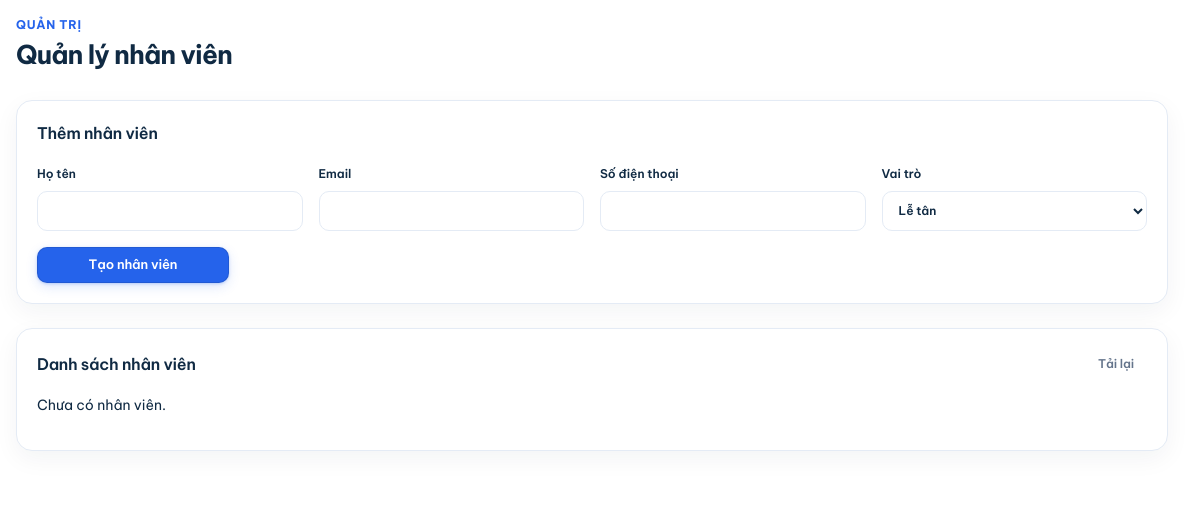
Test: StaffPage › shows an API 409 conflict without clearing the staff form
Expected: the text "Chưa có nhân viên." is shown, [37,396,166,414]
Type "Lan" into the field labelled "Họ tên".
click(170, 211); type("Lan")  # box [37,191,302,231]
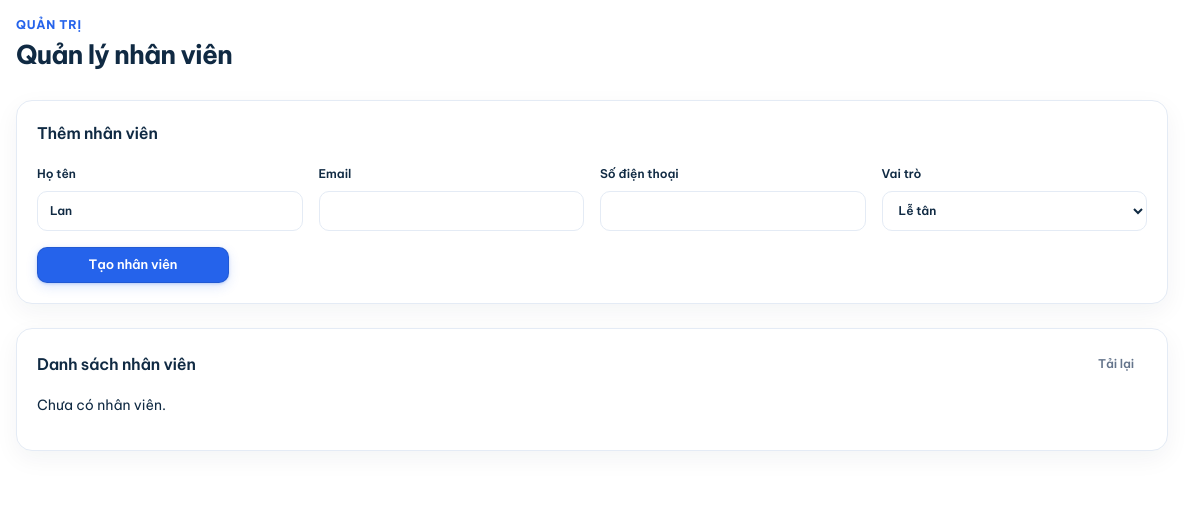
Type "lan@example.test" into the field labelled "Email".
click(451, 211); type("lan@example.test")  # box [318,191,584,231]
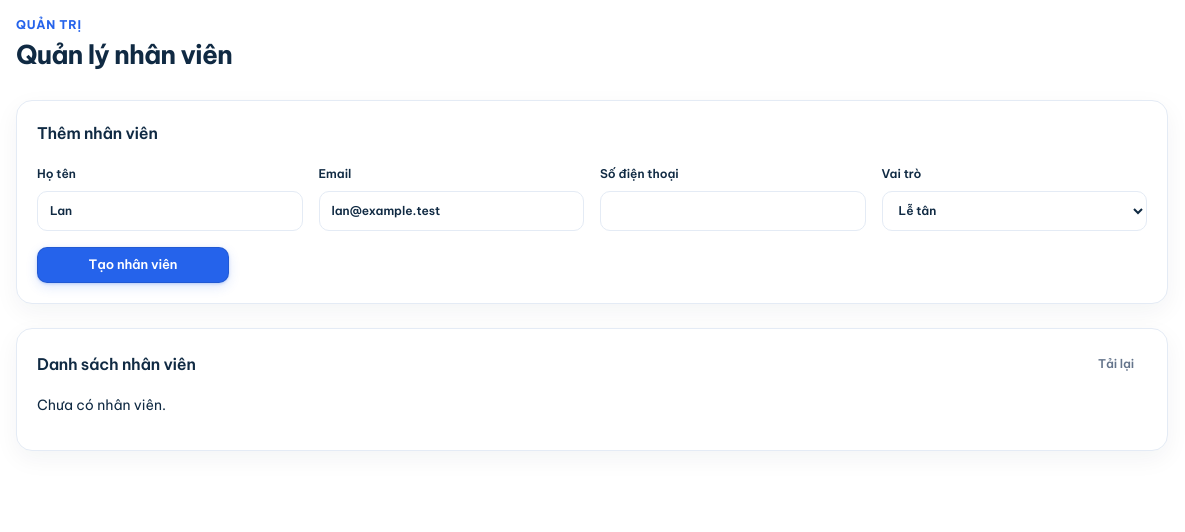
Type "0901234567" into the field labelled "Số điện thoại".
click(733, 211); type("0901234567")  # box [600,191,866,231]
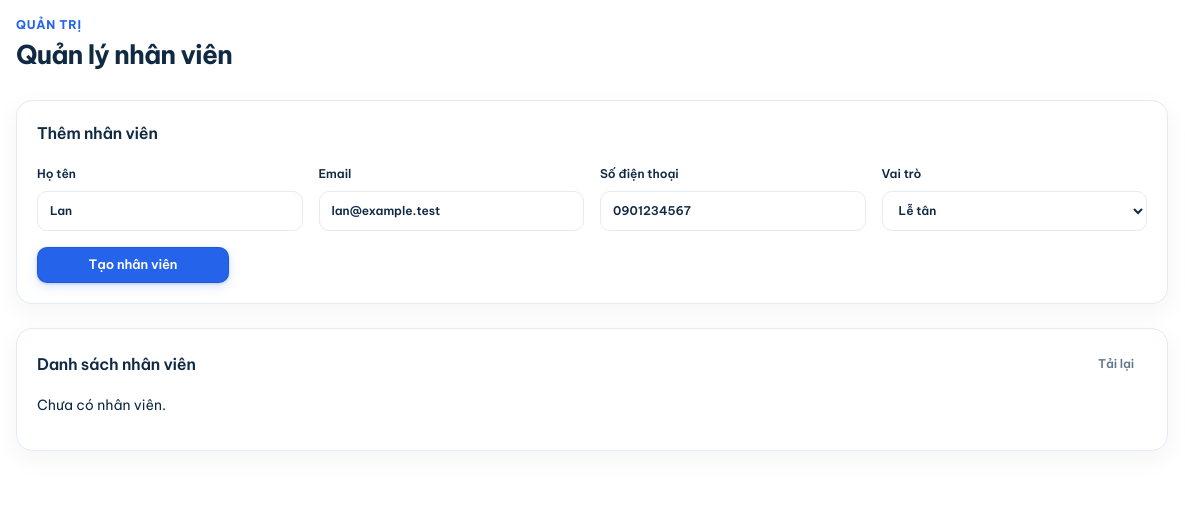
Click the button "Tạo nhân viên".
click(133, 265)  # box [37,247,229,283]
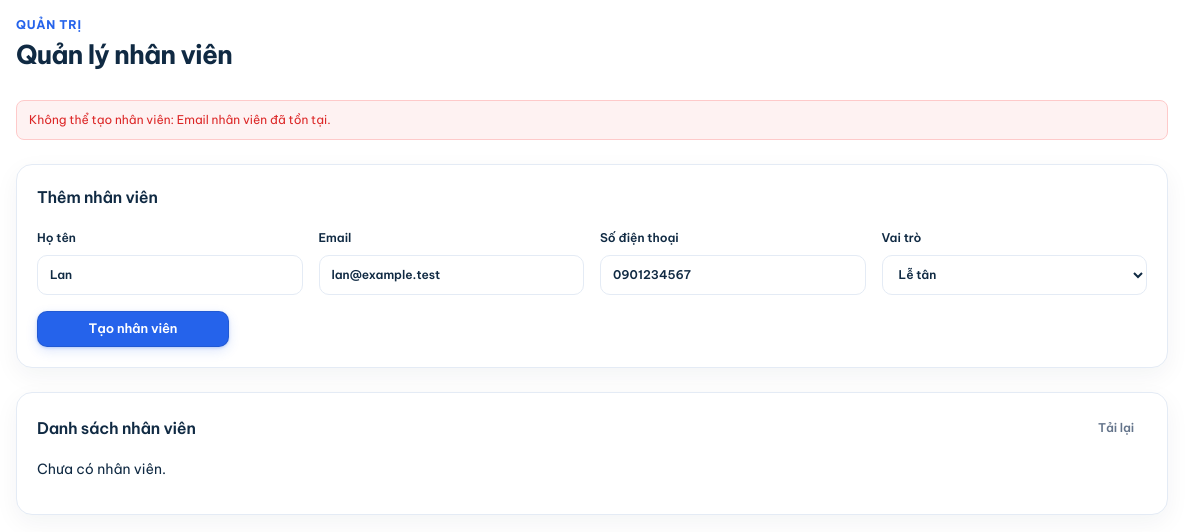
Expected: the message shows "Email nhân viên đã tồn tại.", [29,112,331,127]
Replace the text in the field labelled "Số điện thoại" with "0901234568" at (733, 275), box [600,255,866,295]
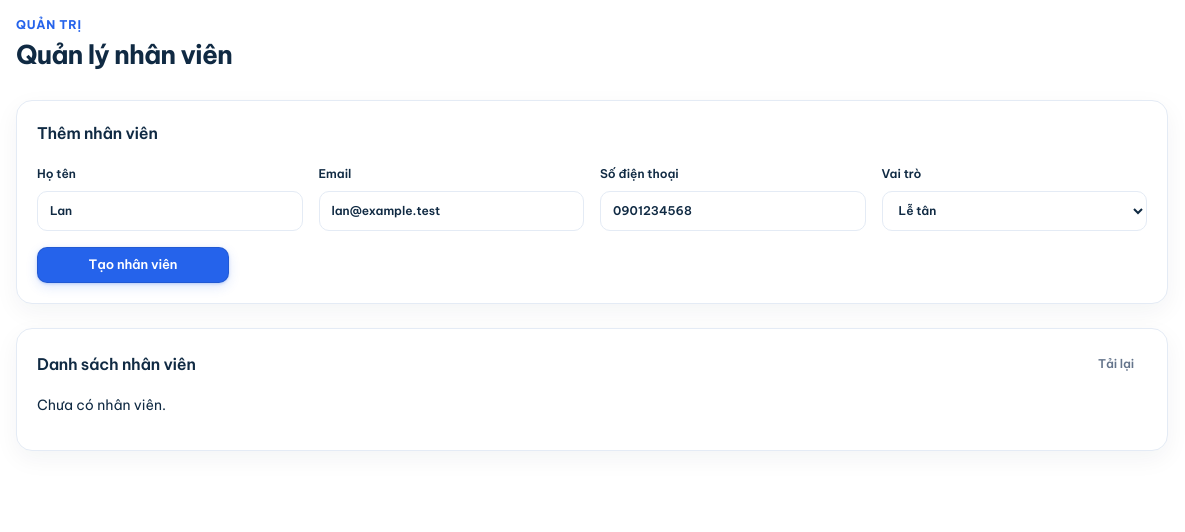
Expected: the message "Không thể tạo nhân viên: Email nhân viên đã tồn tại." is gone
